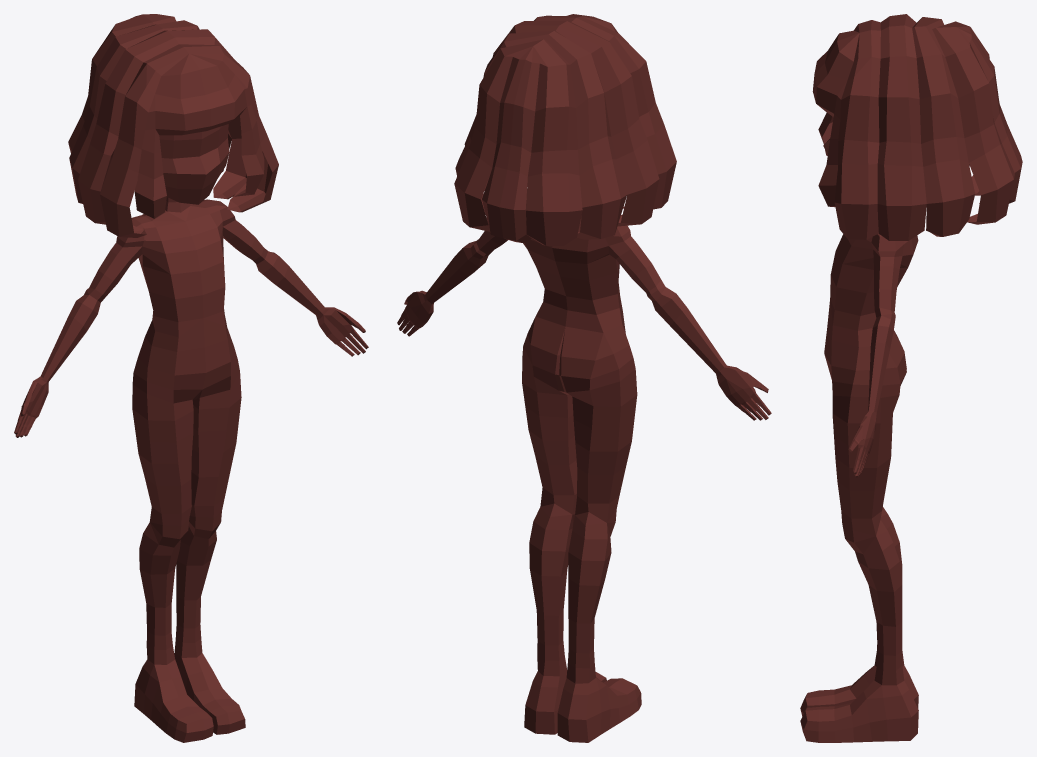
Rendered from Evan.fbx.
The picture shows the model from 3 angles, left to right: view 1: azimuth 30°, elevation 25°; view 2: azimuth 150°, elevation 25°; view 3: azimuth 270°, elevation 25°; orthographic projection. The views are drawn at different scales.
Parts seen in each view (by area): view 1: A1; view 2: A1; view 3: A1.
Part boxes in pixels (bbox=[...]): A1: bbox=[14, 14, 368, 742]; A1: bbox=[397, 14, 771, 742]; A1: bbox=[800, 14, 1022, 742].
Bounding box in the file's own units: 1.11 × 2 × 0.5756.
